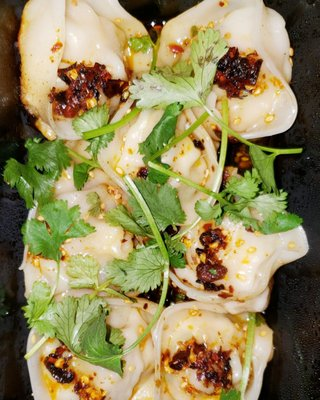curry: (0, 137, 95, 261)
